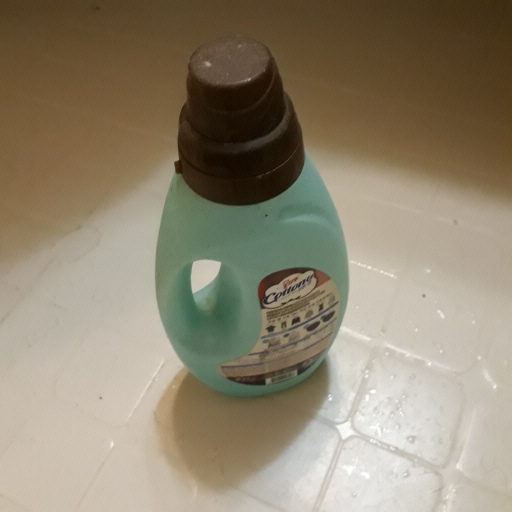Plastic_1: (152, 38, 350, 398)
